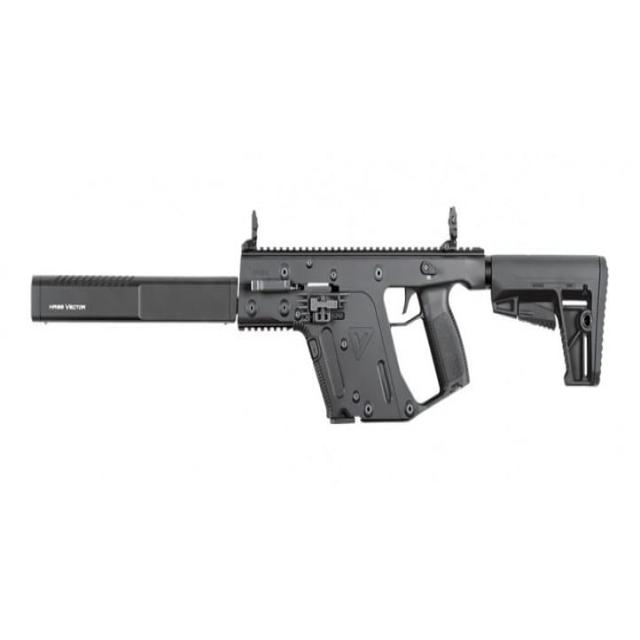SMG: (30, 210, 610, 425)
